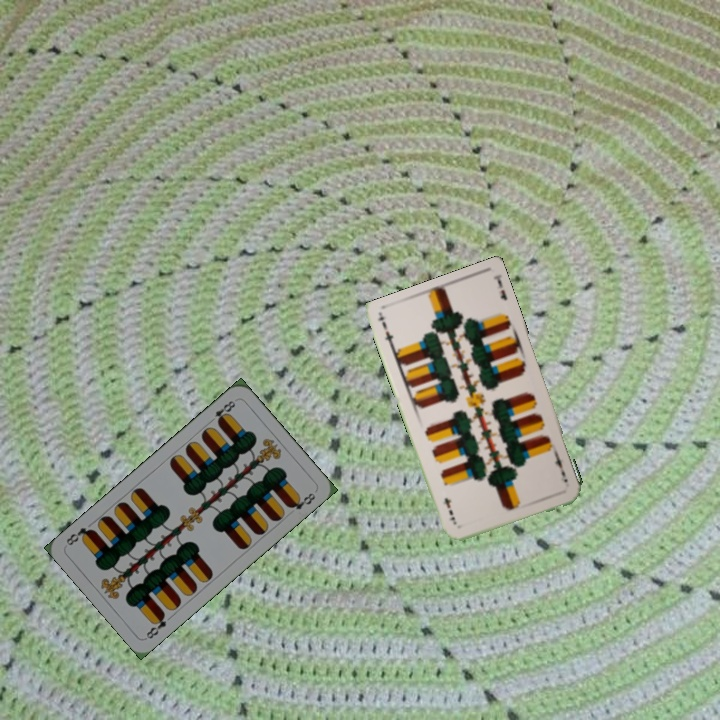E7: (550, 450, 570, 485), (378, 317, 397, 352)
E8: (205, 396, 239, 427), (142, 608, 169, 642)
